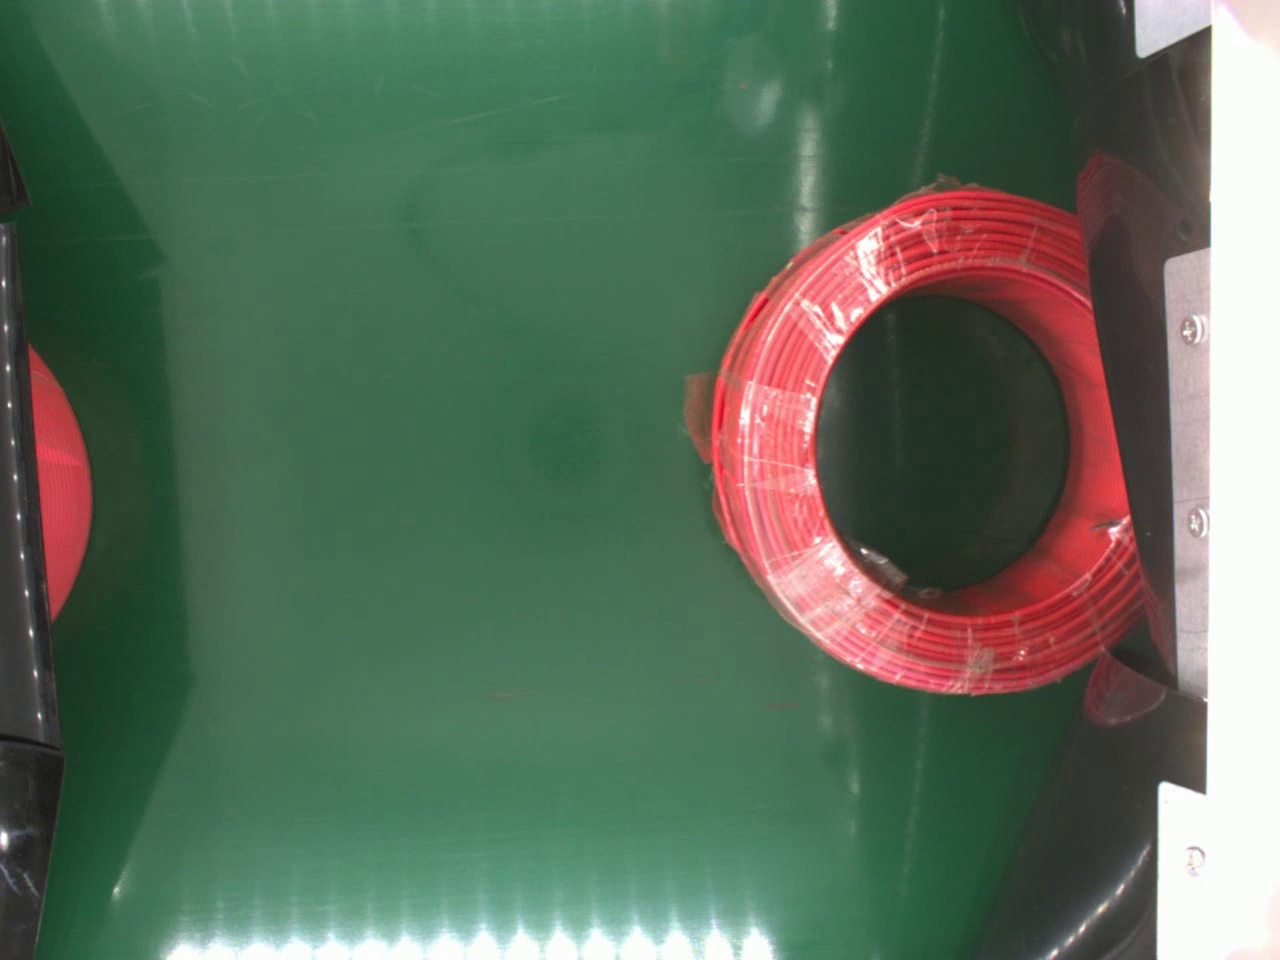red: (708, 181, 1142, 697)
